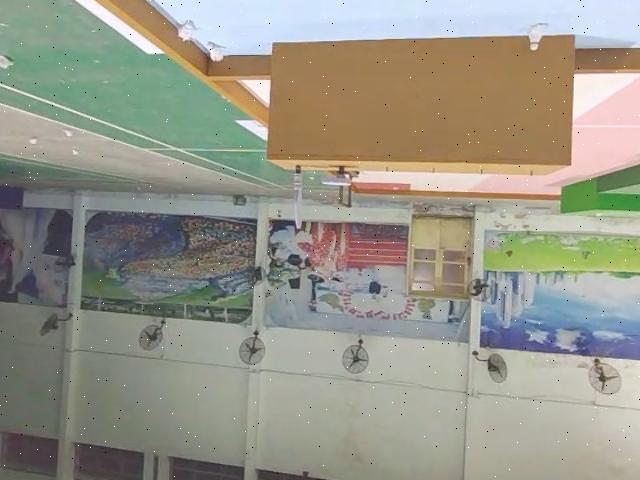Hand: (319, 167, 351, 186)
Sph: (291, 166, 305, 229)
